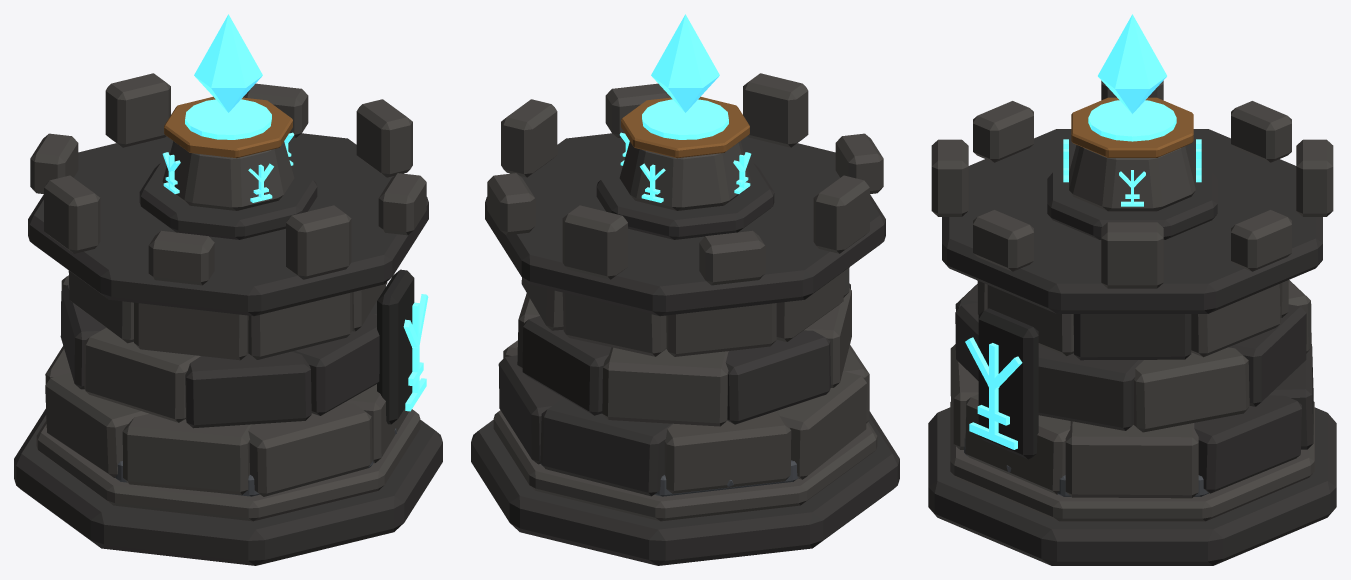
File: rune_tower_lvl1.glb
3 renders of one model, left to right at view 1: azimuth 30°, elevation 25°; view 2: azimuth 150°, elevation 25°; view 3: azimuth 270°, elevation 25°, orthographic.
Parts seen in each view (by area): view 1: Platform, Plinth, Plinth_Step, Block_0_5, Block_1_5, Block_0_6, Block_1_4, Altar_Base, Altar, Block_0_4, Block_2_5, Block_1_6 (+18 smaller); view 2: Platform, Plinth, Plinth_Step, Block_1_2, Block_0_2, Block_0_3, Block_1_3, Altar_Base, Altar, Block_0_4, Block_1_1, Block_2_3 (+19 smaller); view 3: Platform, Plinth, Plinth_Step, Block_0_0, Block_1_0, Block_0_1, Block_1_7, Altar, RuneStone_0, Block_2_0, Altar_Base, Block_0_7 (+18 smaller).
Part boxes in pixels (x1,y1,x2,y2): Platform: (28, 133, 428, 316); Plinth: (14, 409, 442, 565); Plinth_Step: (36, 409, 420, 521); Block_0_5: (122, 413, 251, 494); Block_1_5: (185, 351, 311, 428); Block_0_6: (248, 403, 372, 496); Block_1_4: (84, 327, 200, 422); Altar_Base: (139, 161, 317, 239); Altar: (162, 141, 294, 210); Block_0_4: (45, 372, 148, 477); Block_2_5: (134, 302, 248, 360); Block_1_6: (292, 313, 379, 415); Platform: (485, 133, 885, 316); Plinth: (471, 411, 899, 565); Plinth_Step: (493, 410, 877, 521); Block_1_2: (602, 347, 728, 426); Block_0_2: (540, 398, 672, 496); Block_0_3: (664, 411, 791, 493); Block_1_3: (725, 330, 830, 424); Altar_Base: (596, 161, 774, 239); Altar: (619, 141, 751, 210); Block_0_4: (777, 371, 866, 479); Block_1_1: (522, 316, 611, 415); Block_2_3: (666, 303, 776, 356); Platform: (942, 129, 1322, 313); Plinth: (928, 407, 1336, 565); Plinth_Step: (950, 401, 1314, 521); Block_0_0: (1065, 421, 1198, 498); Block_1_0: (1133, 347, 1249, 432); Block_0_1: (1194, 395, 1301, 493); Block_1_7: (1038, 345, 1143, 430); Altar: (1069, 145, 1195, 211); RuneStone_0: (978, 308, 1038, 459); Block_2_0: (1073, 314, 1191, 360); Altar_Base: (1047, 165, 1217, 239); Block_0_7: (965, 394, 1070, 494).
Bounding box in the file's own units: 2.22 × 2.81 × 2.22.
